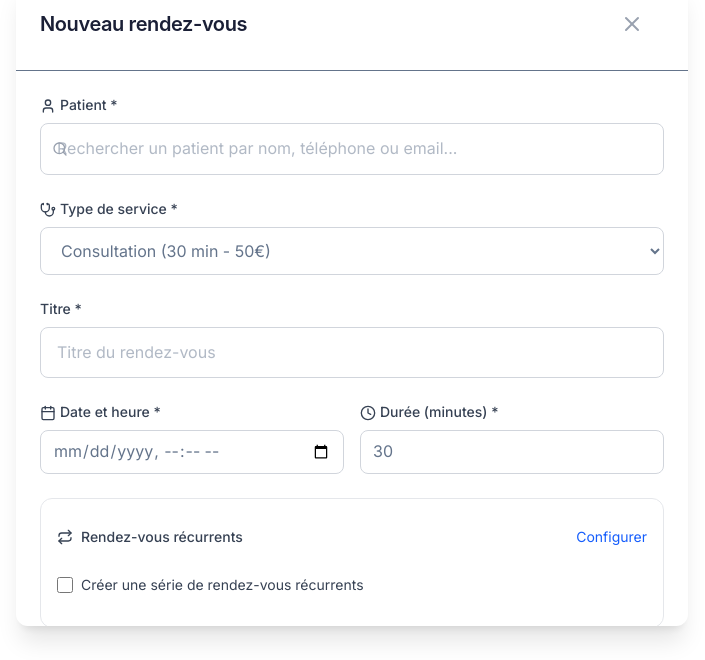
Test: AppointmentForm › Enhanced Patient Selection › should filter patients based on search term
In the field with placeholder "Rechercher un patient par nom, téléphone ou email...": [352, 149] box [40,123,664,175], type "Marie"
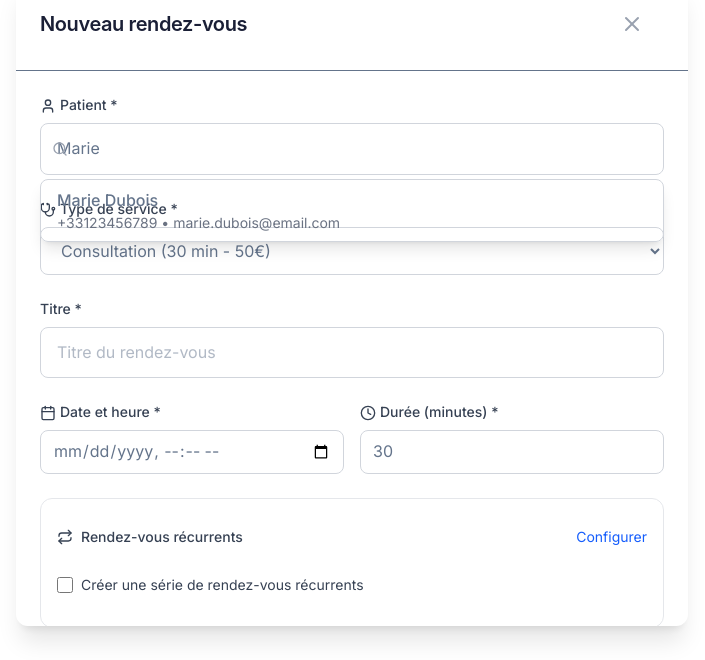
Check: the text "Marie Dubois" is shown, box [57,190,158,210]
